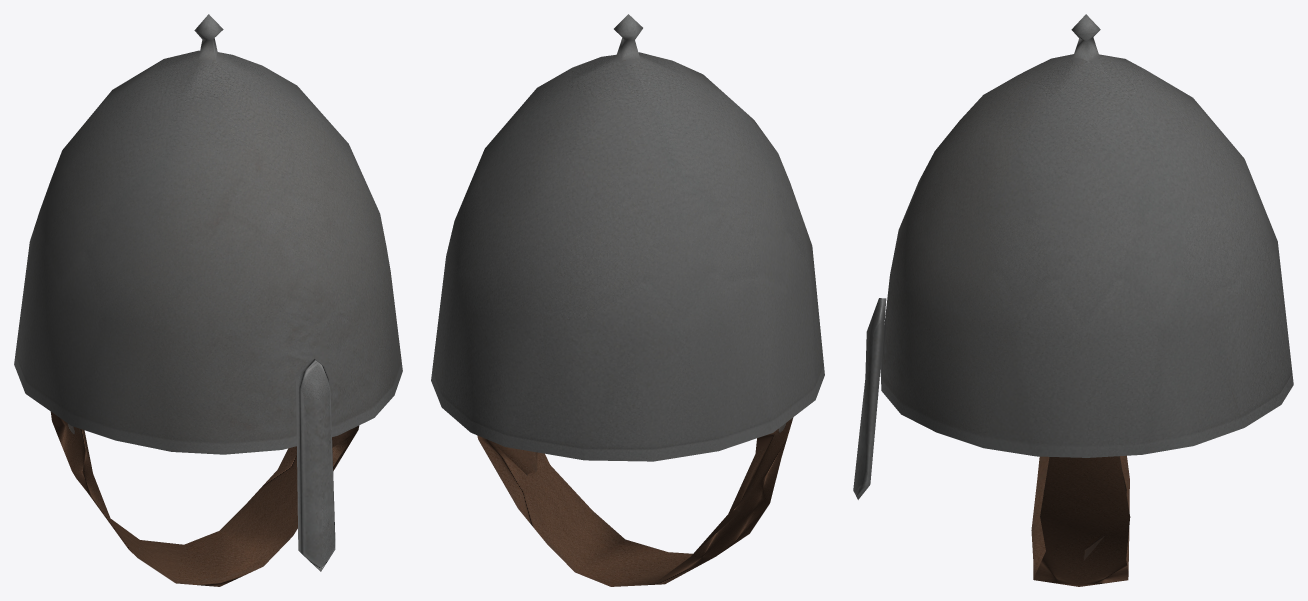
The model's file is Helmet.glb.
3 renders of one model, left to right at view 1: azimuth 30°, elevation 25°; view 2: azimuth 150°, elevation 25°; view 3: azimuth 270°, elevation 25°, orthographic. The views are drawn at different scales.
Size of the model in its own units: 0.6133 by 0.998 by 0.7012.
Materials: 1 (1 with a texture image).
